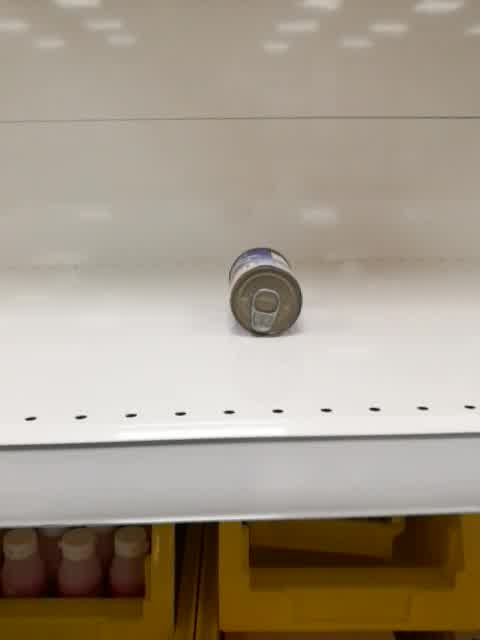sardine: (226, 246, 303, 339)
